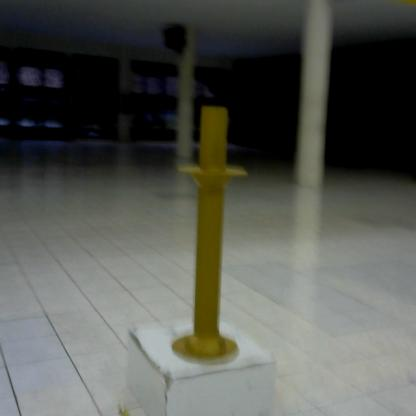pole: (172, 100, 252, 366)
